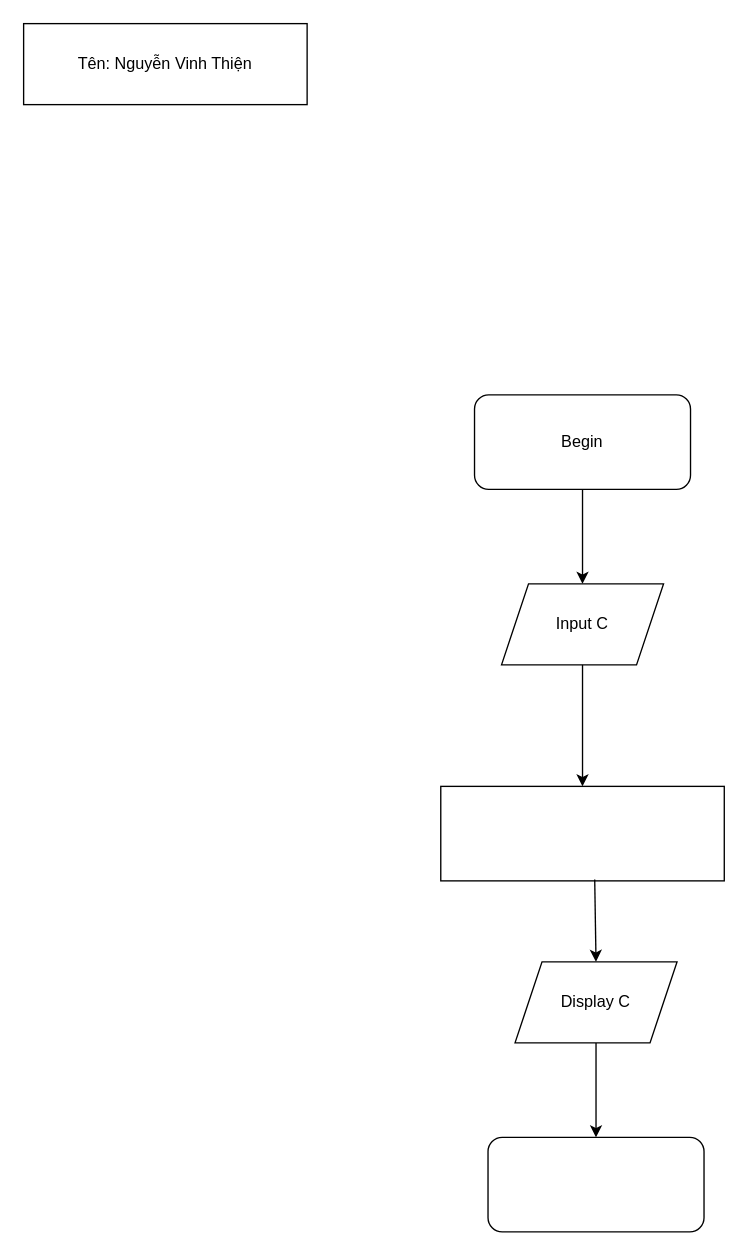
This 748x1256 diagram has some shape labels left out. The shapes that lost their labels are listed below. From the top down, each one's box as (x1, y1, x2, y2) in pixels, then its label:
(439, 785, 724, 881): F = (9 * C) / 5 + 32
(487, 1136, 704, 1232): End
